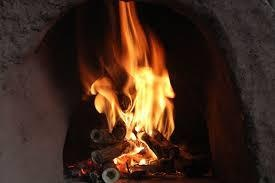fire: (85, 2, 178, 155), (111, 133, 158, 169)
